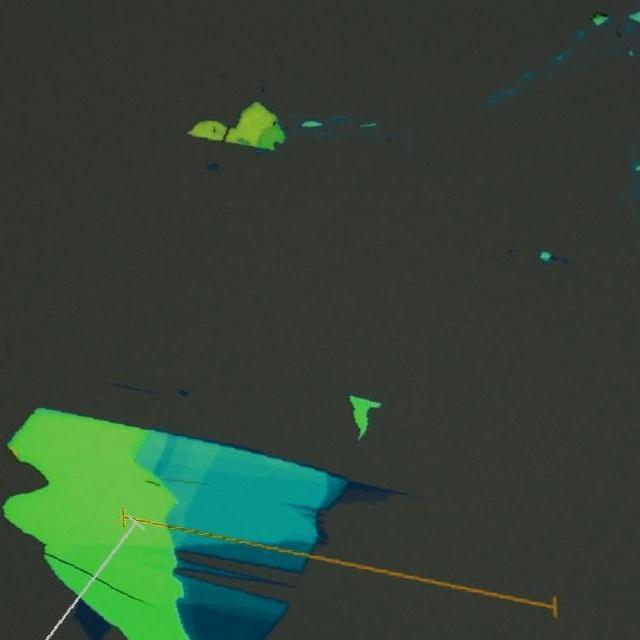monolayer-eWW4: (341, 488, 388, 506)
